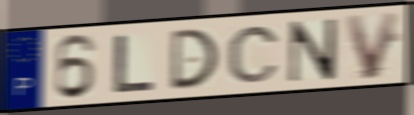6: (53, 32, 98, 101)
C: (225, 24, 281, 85)
D: (168, 26, 221, 92)
L: (111, 32, 158, 95)
N: (286, 16, 340, 85)
V: (342, 9, 403, 82)
